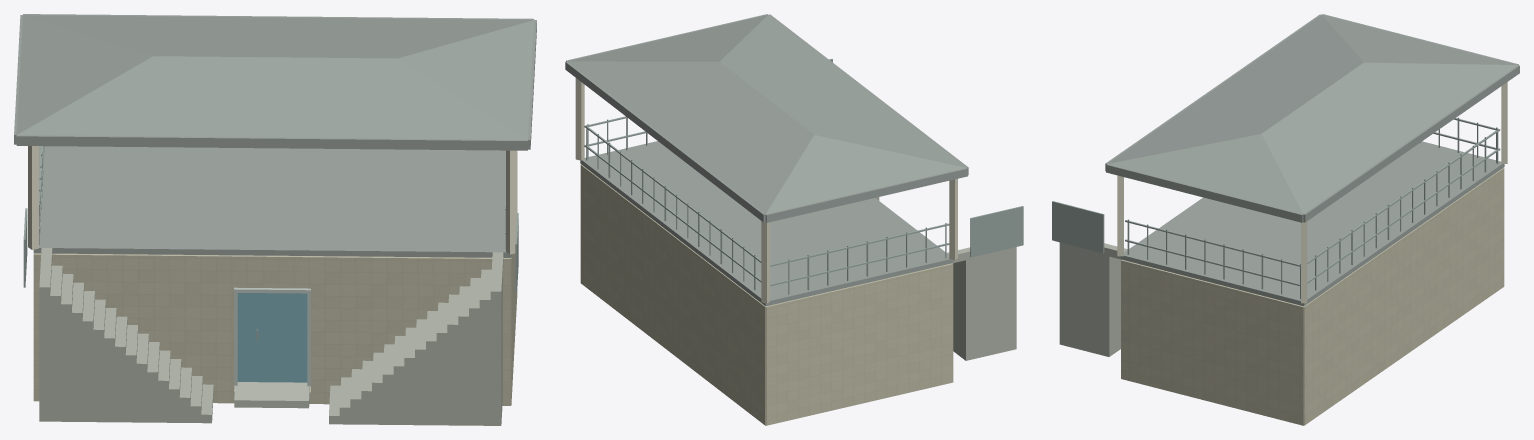
3 renders of one model, left to right at view 1: azimuth 30°, elevation 25°; view 2: azimuth 150°, elevation 25°; view 3: azimuth 270°, elevation 25°, orthographic. The views are drawn at different scales.
Parts seen in each view (by area): view 1: stage__roof, stage__wall, stage__stairs-stage-right, stage__stairs-stage-left, stage__door, stage__trim, stage__threshold-entry, stage__frame, stage__metal; view 2: stage__roof, stage__wall, stage__stairs-stage-right, stage__metal, stage__trim; view 3: stage__roof, stage__wall, stage__metal, stage__stairs-stage-left, stage__trim.
Part boxes in pixels (x1,y1,x2,y2): stage__roof: [14, 14, 536, 257]; stage__wall: [33, 151, 517, 405]; stage__stairs-stage-right: [39, 257, 213, 423]; stage__stairs-stage-left: [329, 261, 502, 425]; stage__door: [237, 293, 307, 382]; stage__trim: [28, 146, 516, 254]; stage__threshold-entry: [234, 382, 309, 408]; stage__frame: [234, 287, 310, 386]; stage__metal: [23, 146, 518, 341]; stage__roof: [565, 14, 968, 306]; stage__wall: [580, 164, 953, 425]; stage__stairs-stage-right: [953, 247, 1016, 360]; stage__metal: [584, 59, 1023, 294]; stage__trim: [575, 78, 957, 303]; stage__roof: [1105, 14, 1519, 306]; stage__wall: [1121, 167, 1504, 425]; stage__metal: [1052, 117, 1500, 299]; stage__stairs-stage-left: [1059, 242, 1120, 356]; stage__trim: [1117, 82, 1507, 303].
Size of the model in its own units: 11.74 by 6.03 by 10.9.
10 materials, 1 textured.
